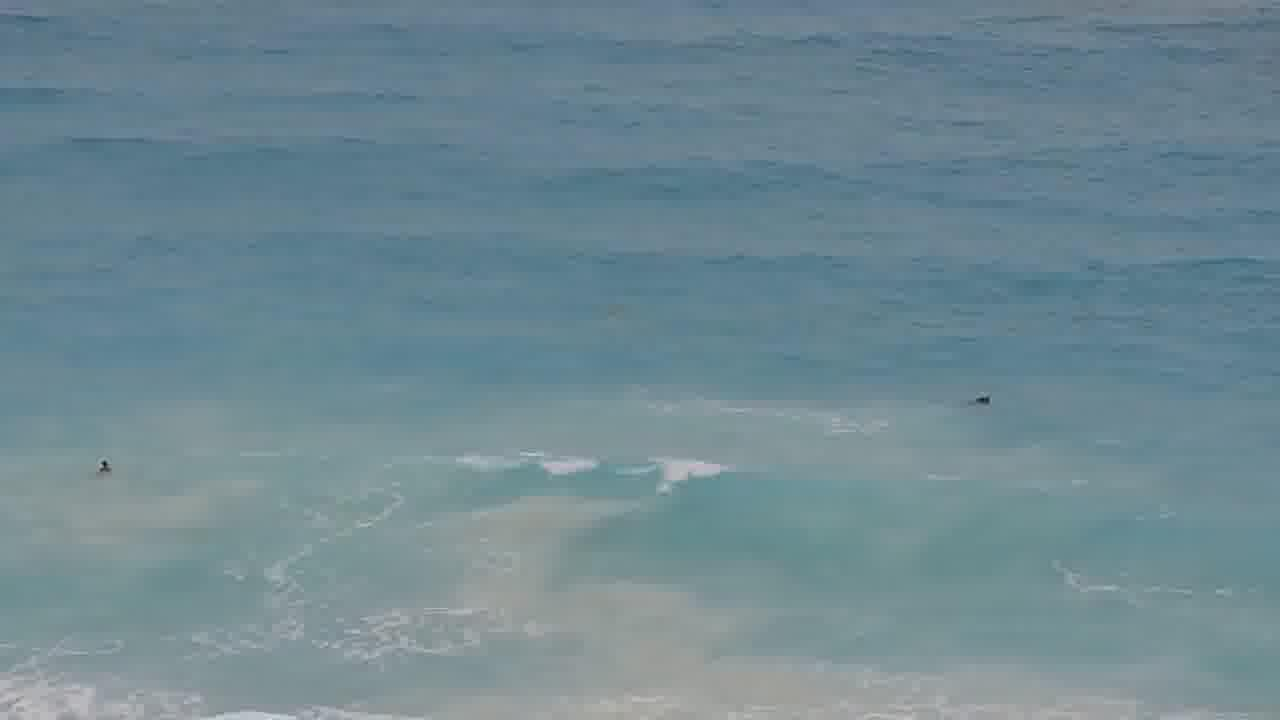human: (959, 386, 1002, 414), (88, 456, 126, 481)
